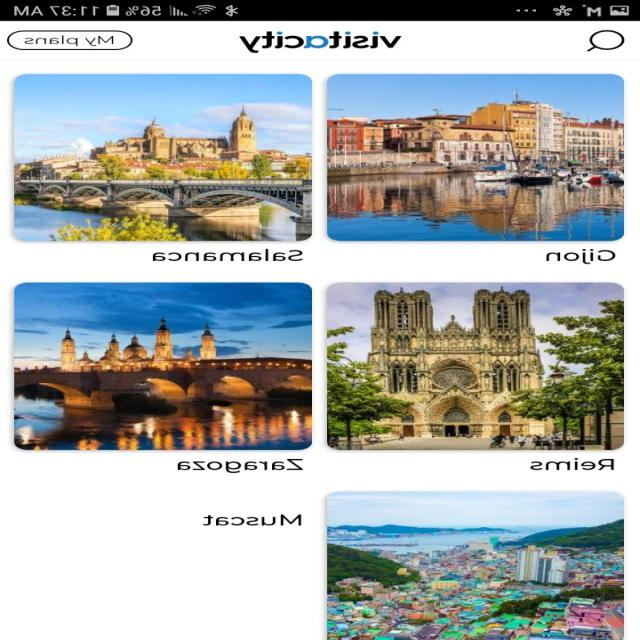Icon: (586, 29, 625, 52)
Image: (15, 282, 313, 450), (327, 282, 624, 450), (327, 73, 624, 241), (15, 74, 313, 241), (327, 491, 624, 639), (239, 32, 403, 54)
Text: (153, 248, 304, 261), (178, 458, 304, 473), (546, 248, 616, 264), (202, 514, 302, 525), (530, 457, 614, 470)
TextButton: (8, 30, 134, 50)
